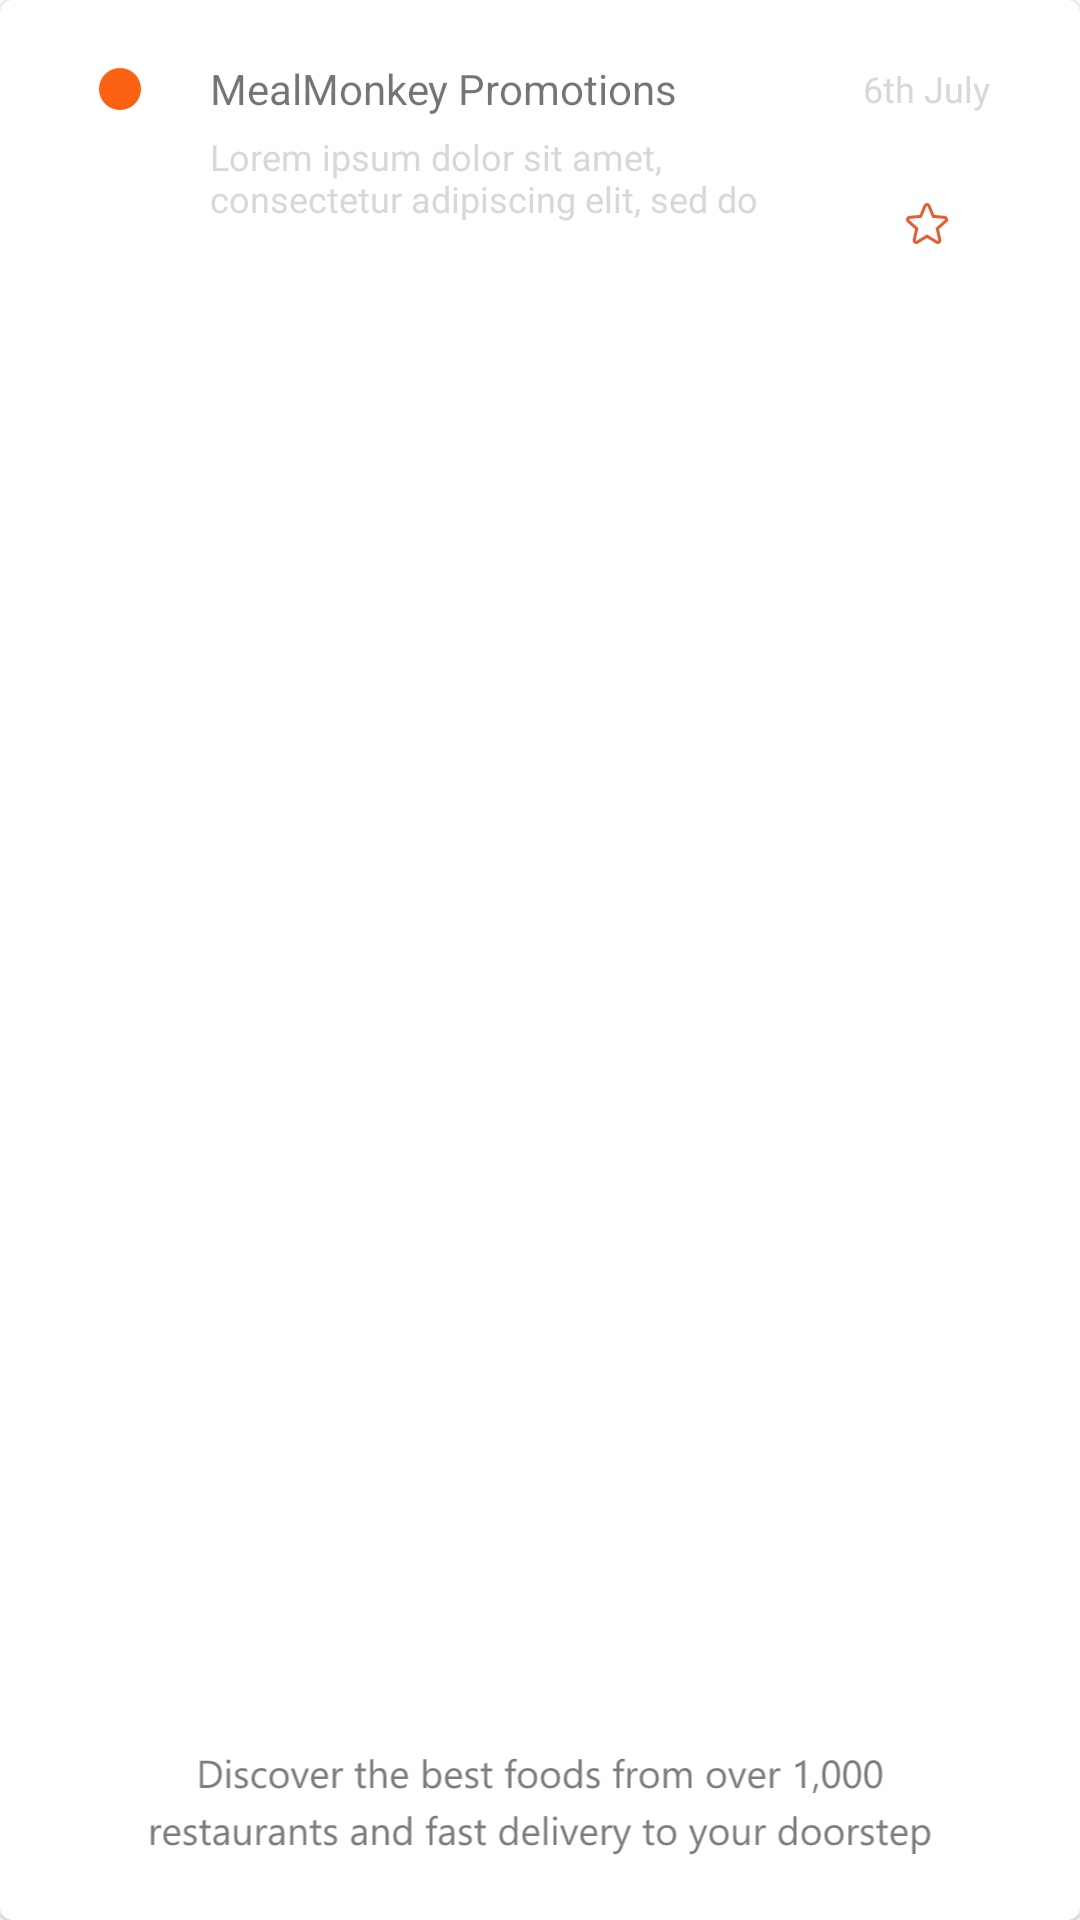

Locate icon controls on the screen. Image size 1080 x 1920, boxes as box(x1, y1, x2, y2).
star: box(906, 203, 948, 244)
